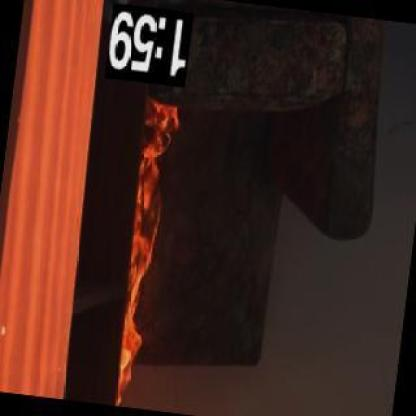Fire: (106, 95, 179, 408)
